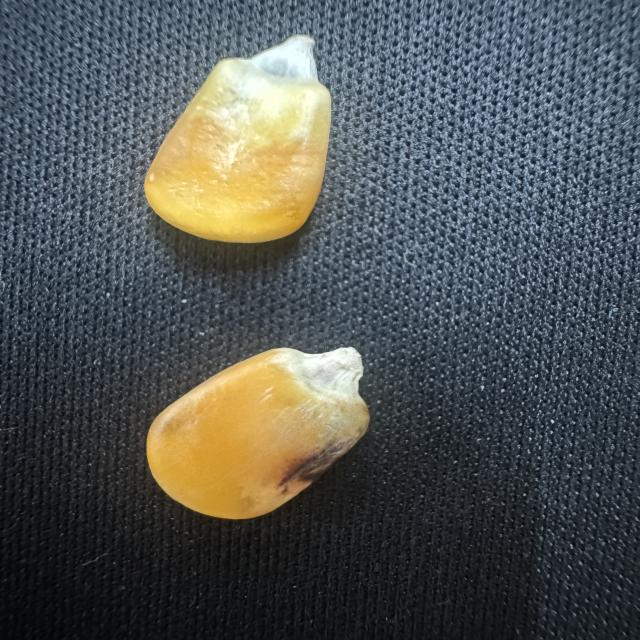Good-Seed: (139, 29, 337, 245), (142, 341, 377, 521)
